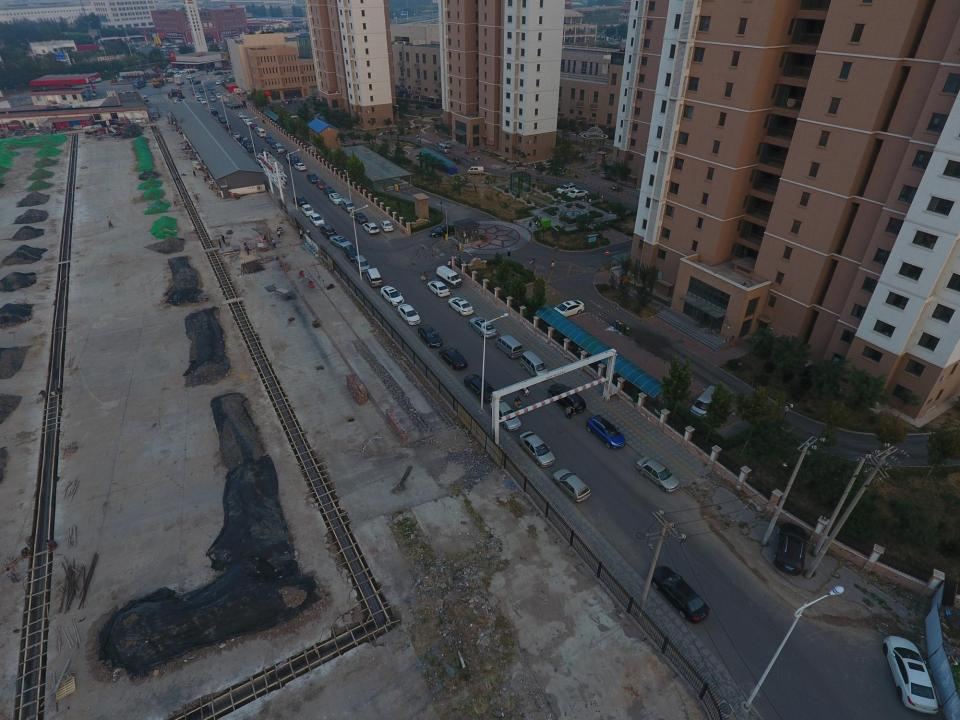car: (882, 635, 938, 714), (648, 564, 710, 624), (772, 522, 809, 576), (636, 455, 680, 493), (585, 413, 627, 448), (552, 468, 592, 504), (518, 430, 555, 468), (547, 383, 587, 413), (488, 398, 522, 431), (464, 373, 496, 402), (438, 346, 468, 370), (549, 300, 584, 318), (417, 324, 443, 348), (469, 317, 497, 338), (380, 285, 405, 306), (447, 297, 474, 316), (397, 304, 420, 326), (427, 280, 450, 297), (428, 224, 455, 238), (329, 235, 353, 250), (344, 244, 360, 262), (362, 221, 379, 234), (320, 225, 337, 238), (556, 183, 576, 194), (310, 213, 325, 227), (567, 189, 588, 198), (351, 212, 368, 223), (380, 220, 394, 232), (301, 204, 315, 216), (329, 193, 343, 204), (293, 196, 308, 206), (323, 186, 336, 197), (315, 178, 327, 189), (306, 174, 318, 184), (241, 137, 250, 148), (294, 163, 306, 171), (206, 110, 219, 117), (260, 147, 270, 156), (230, 103, 243, 109), (269, 140, 278, 148), (244, 118, 252, 126), (264, 136, 273, 143), (232, 132, 241, 139), (441, 142, 451, 148), (249, 123, 258, 129), (186, 74, 195, 80), (192, 80, 201, 85), (242, 116, 249, 122), (237, 112, 244, 118), (200, 98, 207, 104), (225, 102, 231, 108), (216, 93, 222, 99), (192, 89, 198, 95), (213, 90, 219, 96), (215, 80, 224, 84), (209, 96, 216, 101), (195, 93, 201, 98), (210, 88, 216, 93), (199, 87, 205, 92), (197, 96, 203, 100), (207, 86, 213, 90)
truck: (283, 154, 301, 165), (242, 141, 256, 152), (132, 79, 146, 89)
van: (690, 385, 723, 419), (520, 350, 548, 380), (495, 334, 524, 359), (436, 266, 461, 288), (365, 268, 383, 287), (355, 255, 370, 273), (340, 198, 356, 213), (466, 165, 484, 175), (438, 143, 450, 154), (275, 142, 284, 154), (174, 76, 184, 86), (256, 127, 266, 136), (217, 114, 227, 123), (234, 88, 246, 95), (164, 77, 174, 83), (254, 126, 260, 132)
